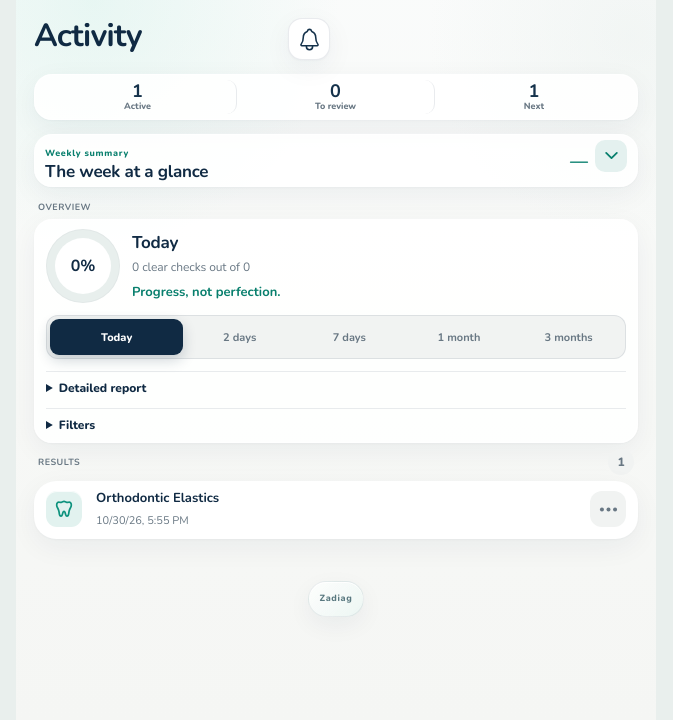
it: ParentDashboard › shows only the latest active check when a relance left duplicate pending checks for one routine
Click the button "1 Active" at coordinates (138, 97), box [39,80,237,114]
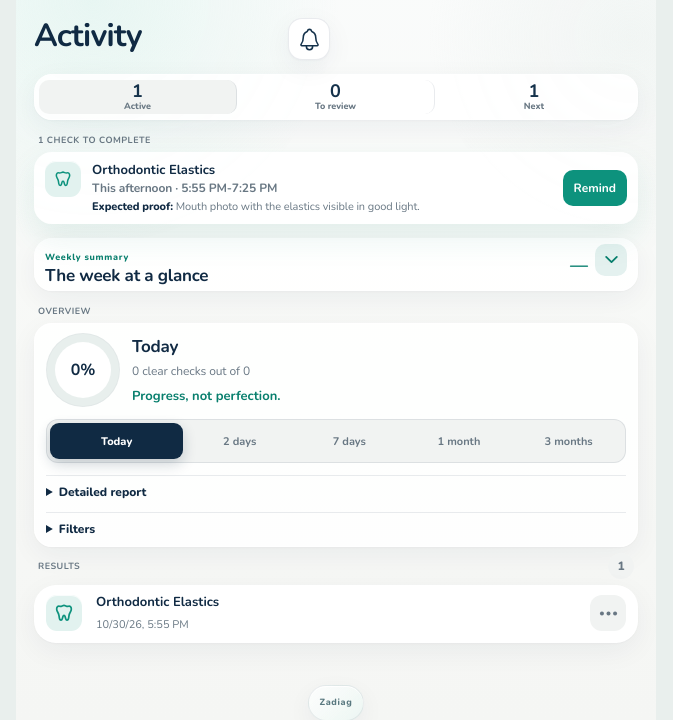
Now the text "1 check to complete" is shown, box [38,134,151,146]
